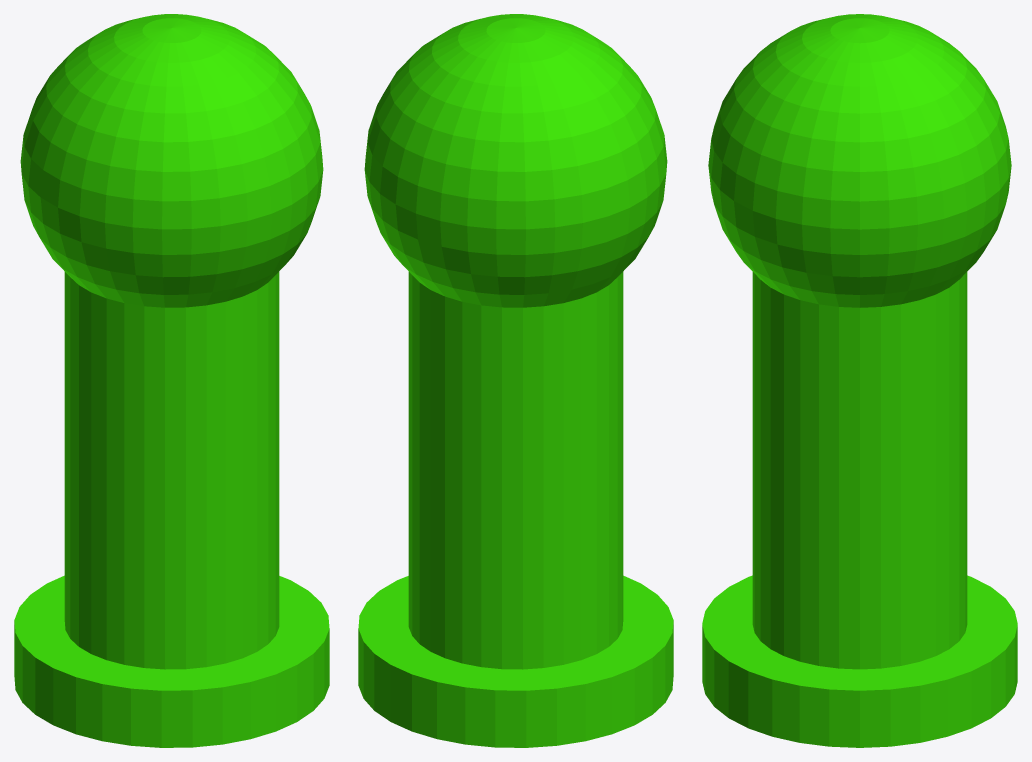
Rendered from TestPlayer.fbx.
3 renders of one model, left to right at view 1: azimuth 30°, elevation 25°; view 2: azimuth 150°, elevation 25°; view 3: azimuth 270°, elevation 25°, orthographic.
Parts seen in each view (by area): view 1: Cylinder; view 2: Cylinder; view 3: Cylinder.
Boxes of the visible parts, x1=… form: Cylinder: x1=14, y1=14, x2=329, y2=747; Cylinder: x1=358, y1=14, x2=673, y2=747; Cylinder: x1=702, y1=14, x2=1017, y2=747.
Bounding box in the file's own units: 100 × 228 × 100.
